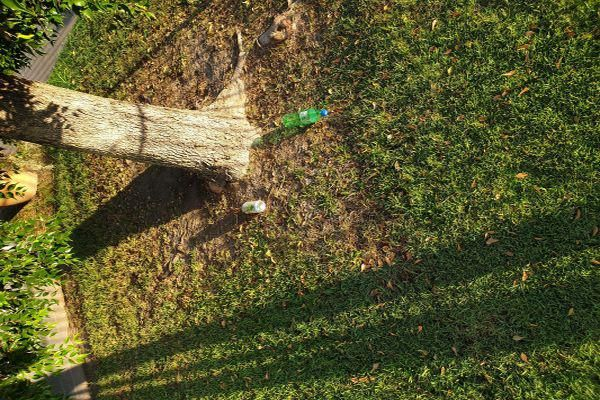Plastic Bottle: (281, 106, 328, 129), (240, 200, 267, 215)
